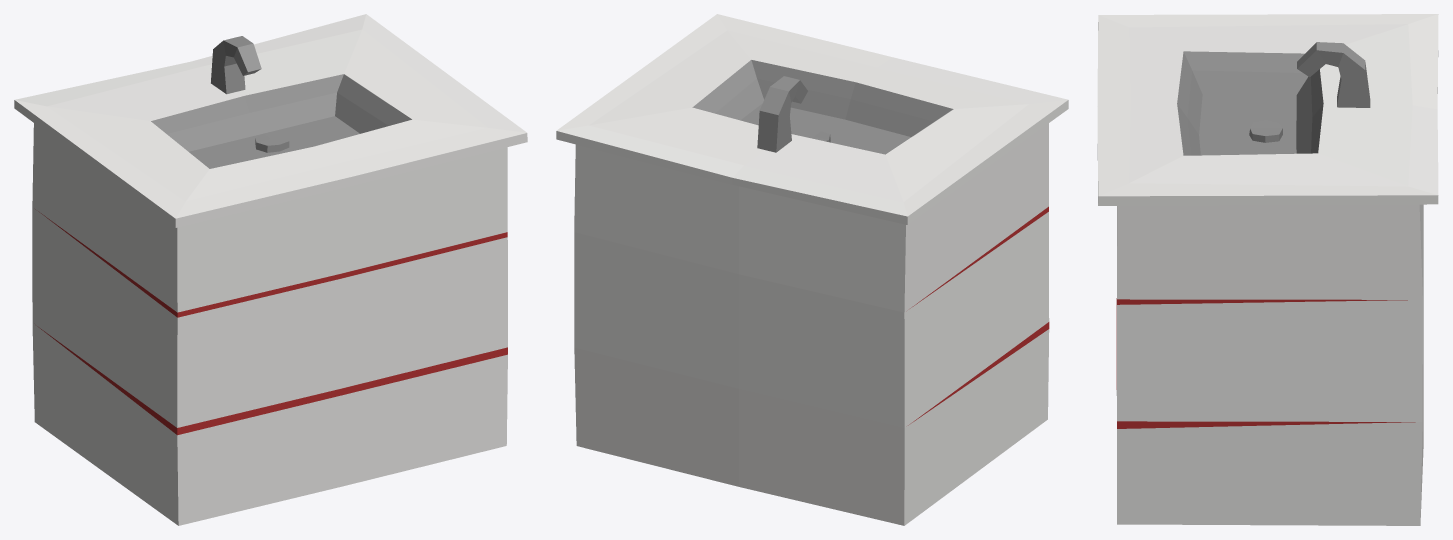
File: Washstand_1.fbx
The picture shows the model from 3 angles, left to right: view 1: azimuth 30°, elevation 25°; view 2: azimuth 150°, elevation 25°; view 3: azimuth 270°, elevation 25°; orthographic projection. The views are drawn at different scales.
Parts seen in each view (by area): view 1: Washstand_1; view 2: Washstand_1; view 3: Washstand_1.
Boxes of the visible parts, x1,y1,x2,y2 form: Washstand_1: (14,14,527,525); Washstand_1: (556,14,1068,525); Washstand_1: (1097,14,1438,525).
Bounding box in the file's own units: 153 × 122 × 155.
